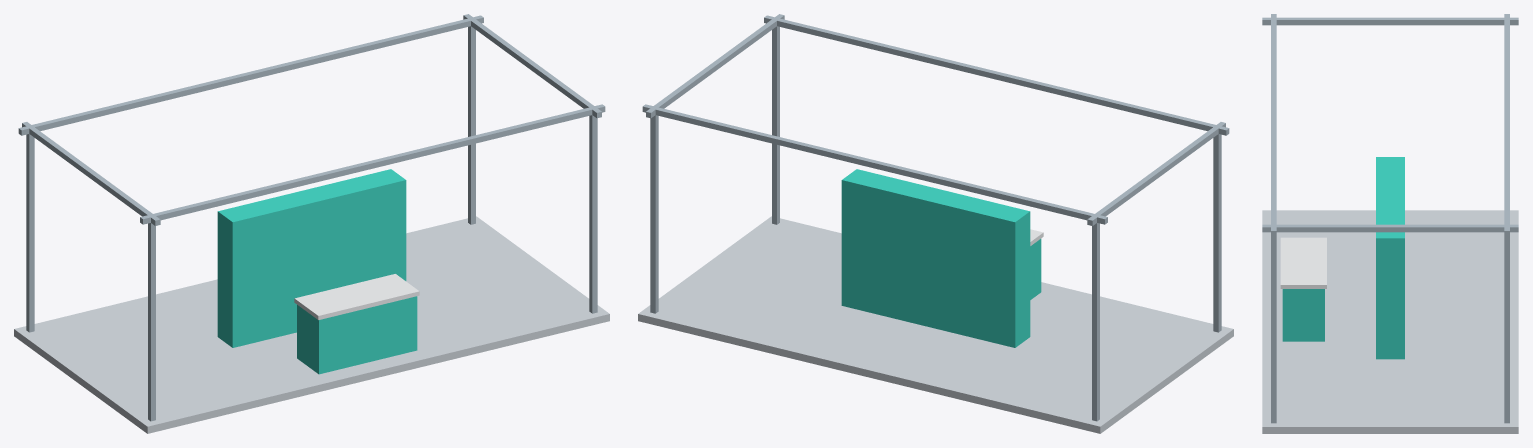
3 renders of one model, left to right at view 1: azimuth 30°, elevation 25°; view 2: azimuth 150°, elevation 25°; view 3: azimuth 270°, elevation 25°, orthographic. The views are drawn at different scales.
Parts seen in each view (by area): view 1: Exhibition Booth Concept; view 2: Exhibition Booth Concept; view 3: Exhibition Booth Concept.
Part boxes in pixels (x1=…): Exhibition Booth Concept: x1=14, y1=14, x2=609, y2=433; Exhibition Booth Concept: x1=638, y1=14, x2=1233, y2=433; Exhibition Booth Concept: x1=1262, y1=14, x2=1518, y2=433.
Size of the model in its own units: 8 by 3.49 by 4.
